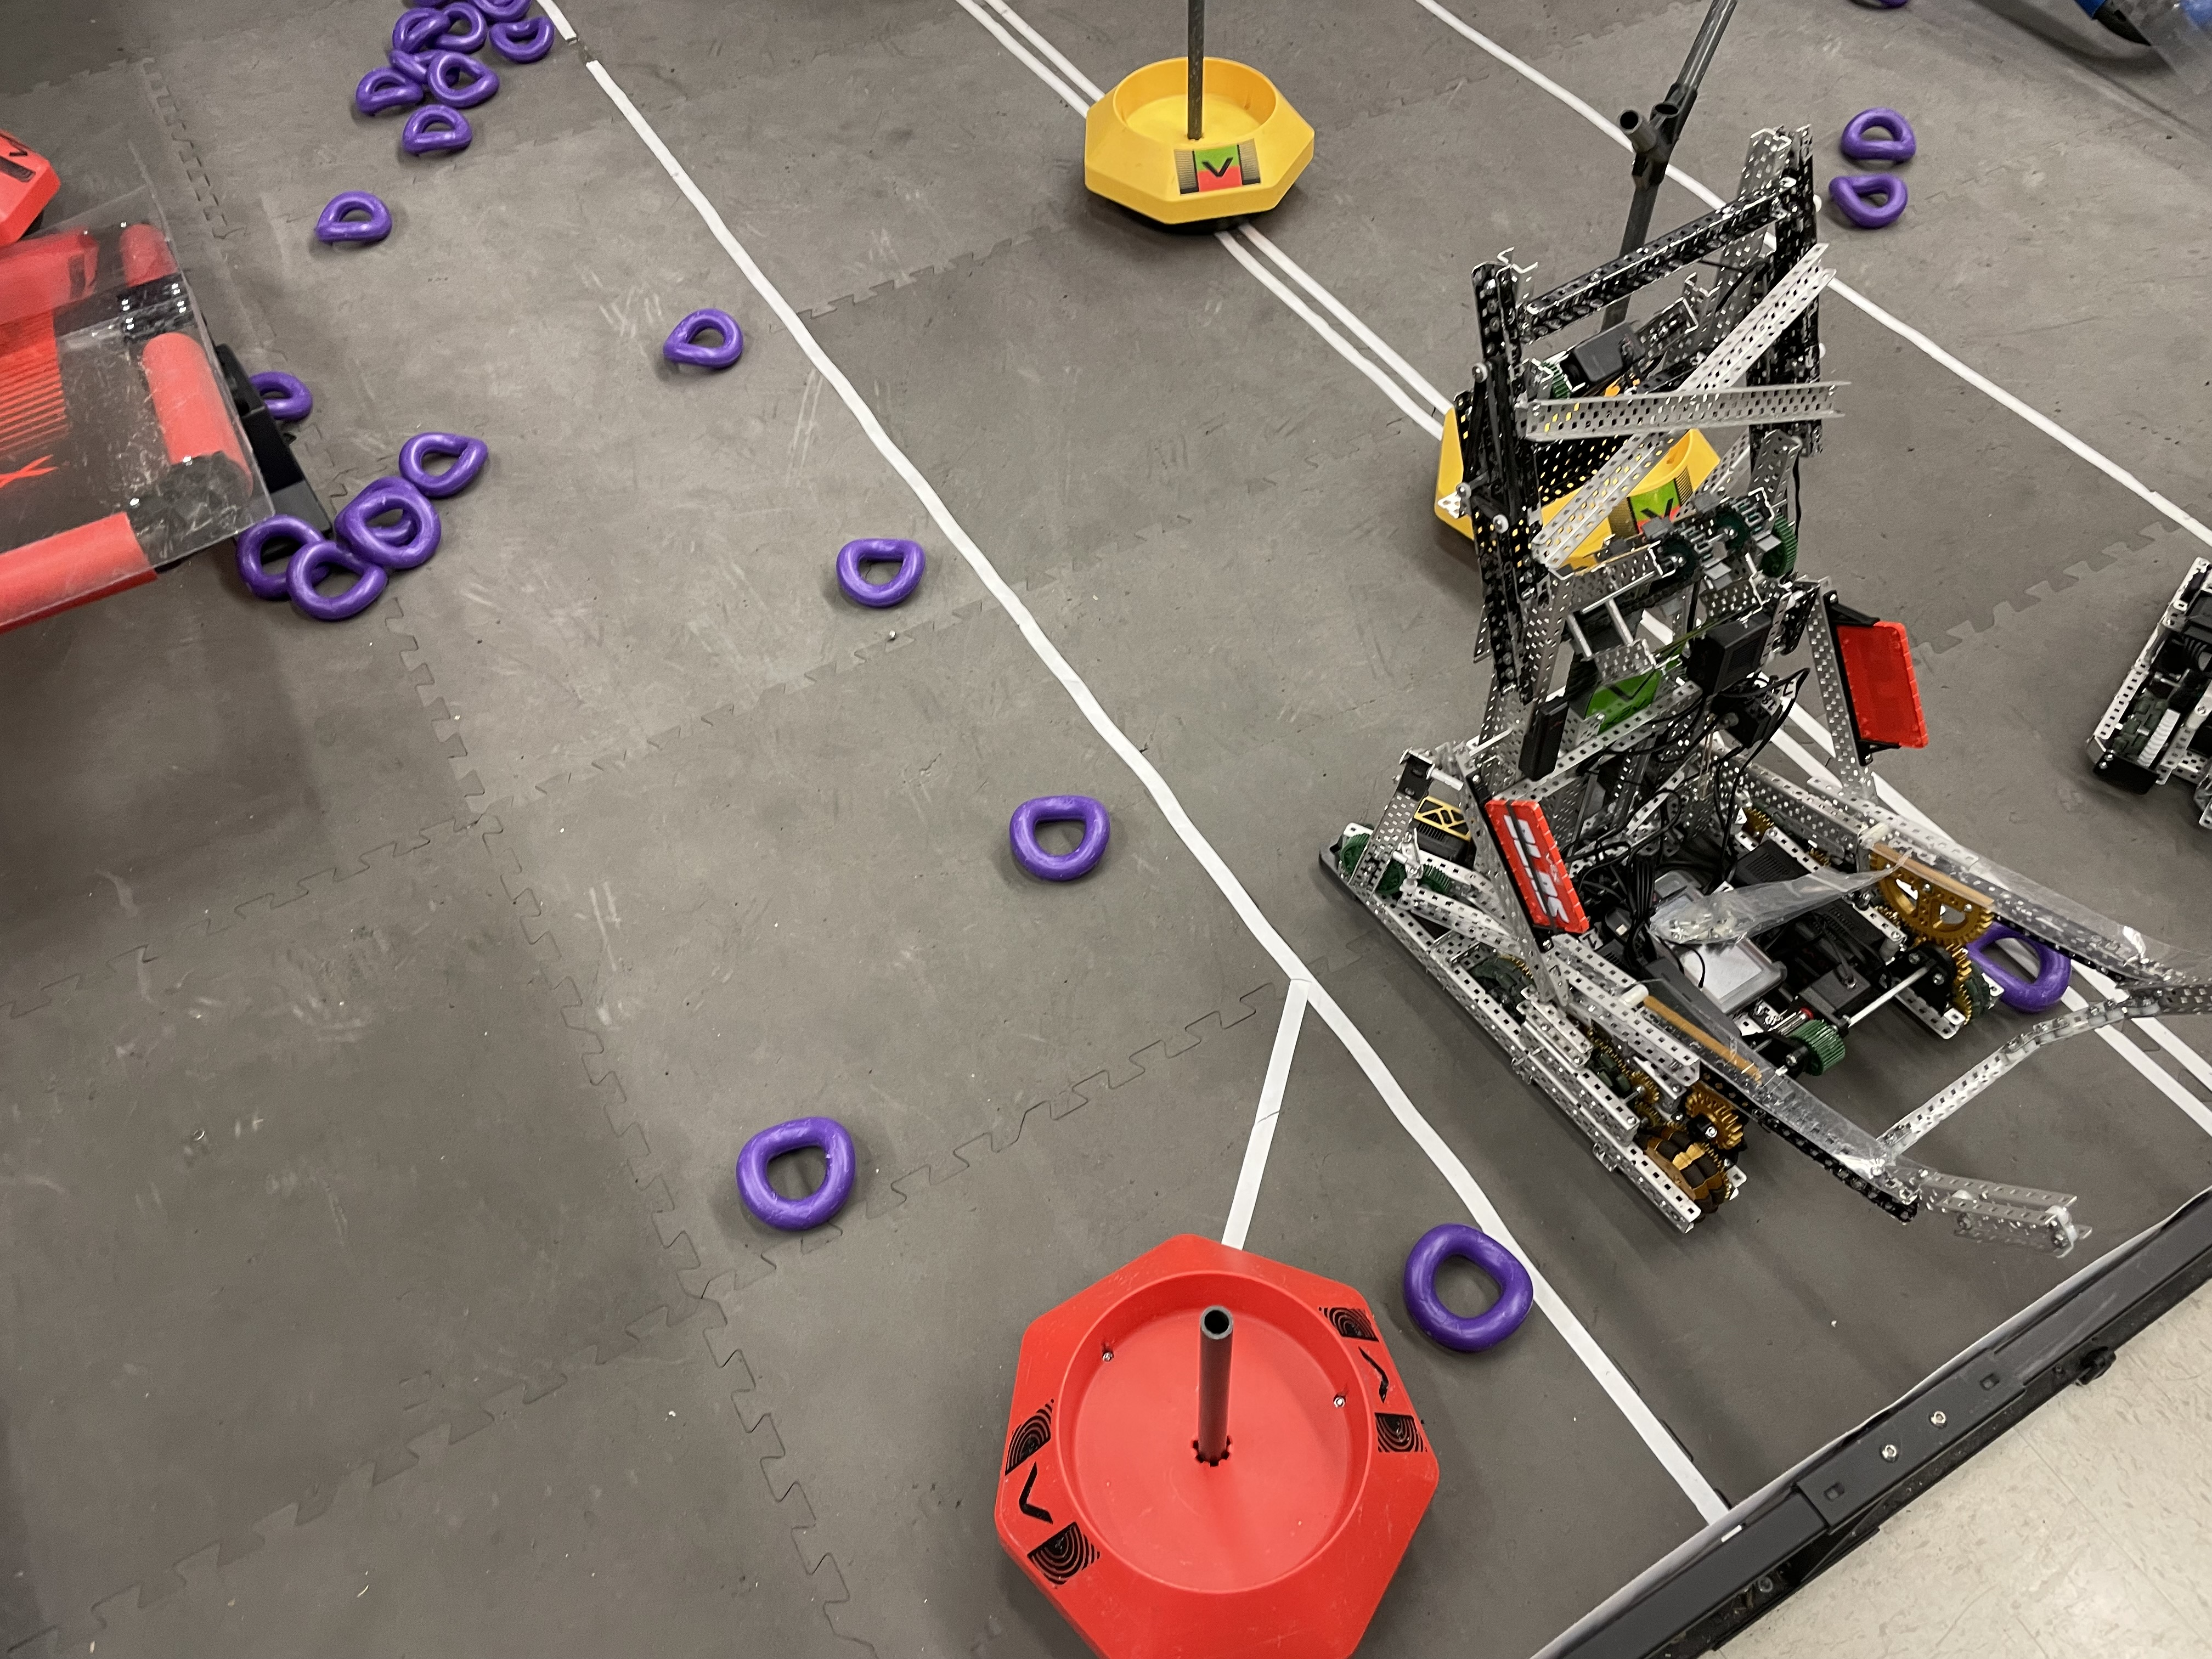ring: (1395, 1223, 1541, 1358), (726, 1112, 859, 1229), (1961, 906, 2074, 1012), (1008, 795, 1111, 889), (282, 537, 388, 619), (324, 474, 435, 549), (334, 497, 444, 570), (232, 514, 329, 592), (394, 427, 491, 498), (829, 538, 925, 608), (660, 305, 745, 378), (1825, 169, 1909, 232), (232, 362, 315, 423), (1832, 108, 1919, 162), (310, 192, 390, 247), (423, 47, 500, 105), (397, 99, 472, 152), (486, 14, 556, 64), (418, 2, 484, 54), (383, 42, 458, 85), (347, 68, 423, 110), (387, 5, 446, 47), (484, 0, 533, 21)
